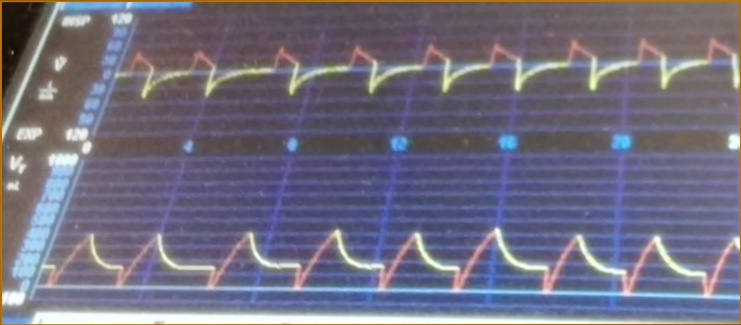Flow: (126, 23, 741, 121)
Leakage Volume: (61, 196, 741, 308)
